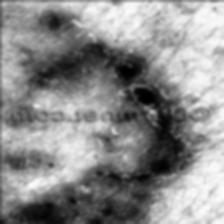Potentially Malignant Skin Tumors: (0, 0, 126, 53), (99, 44, 207, 105), (0, 198, 102, 224)
